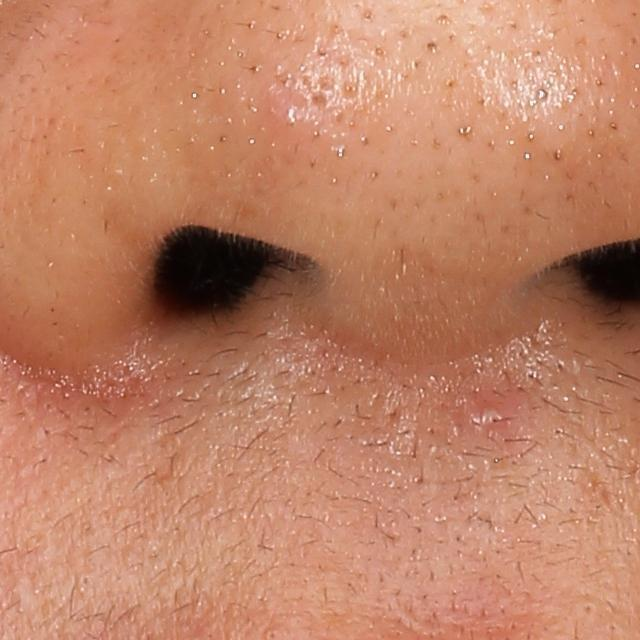comedo: (423, 37, 443, 57)
